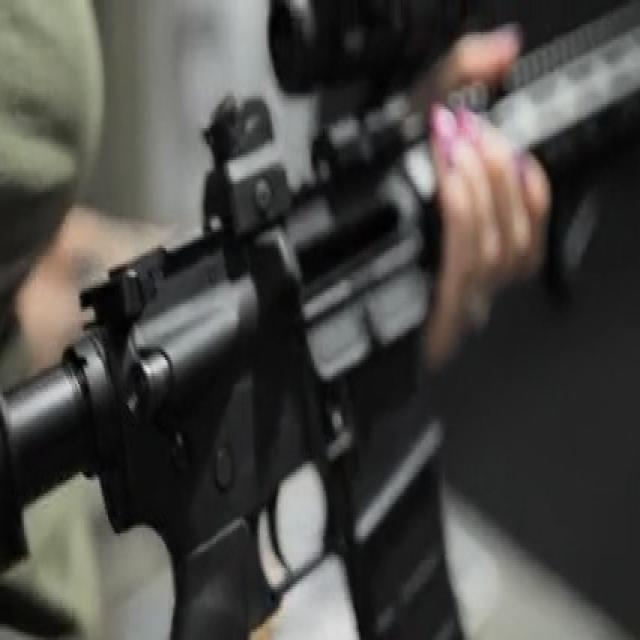Gun_Holder: (49, 5, 638, 640)
